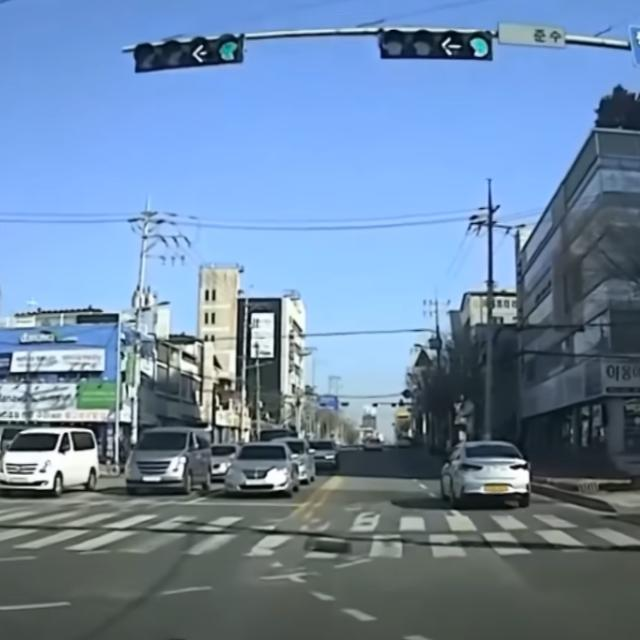Green Light: (463, 31, 492, 60), (215, 35, 243, 65)
